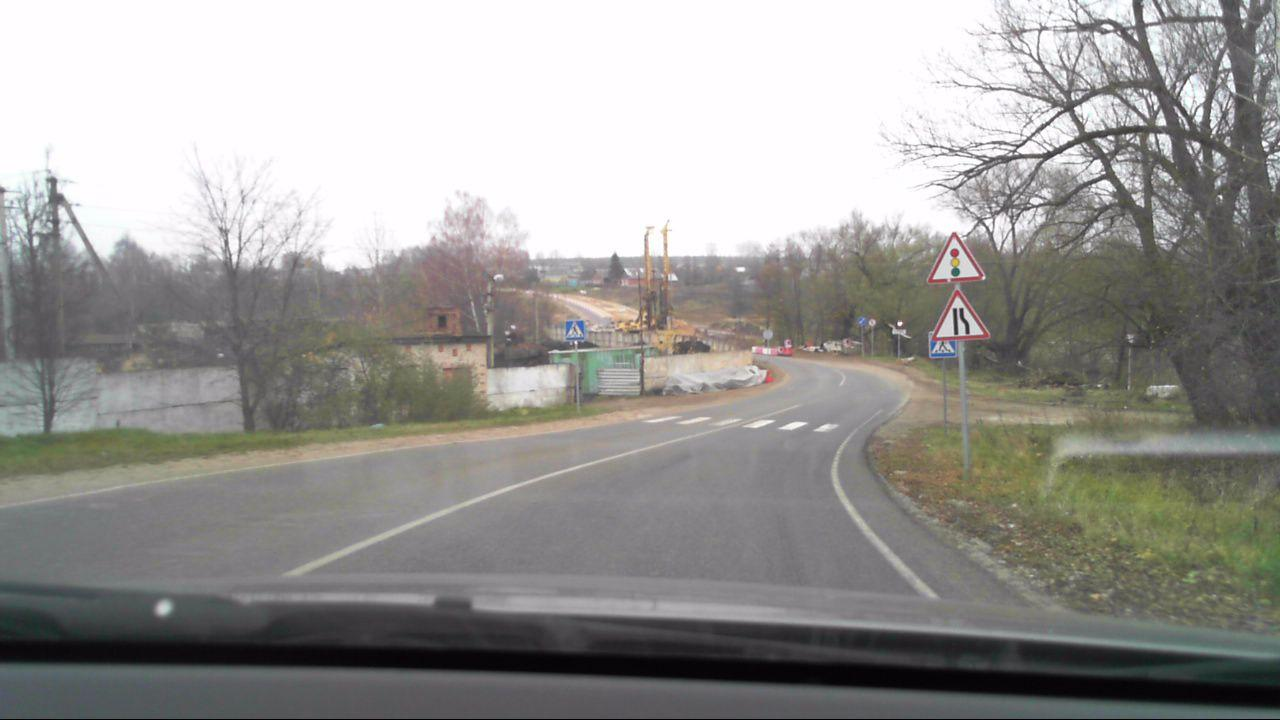1_20_2: (933, 287, 985, 338)
1_8: (926, 232, 987, 286)
3_10: (869, 318, 876, 326)
4_2_2: (858, 317, 867, 326)
5_19_1: (927, 330, 957, 361)
5_19_2: (566, 319, 585, 341)
6_16: (890, 328, 907, 335)
